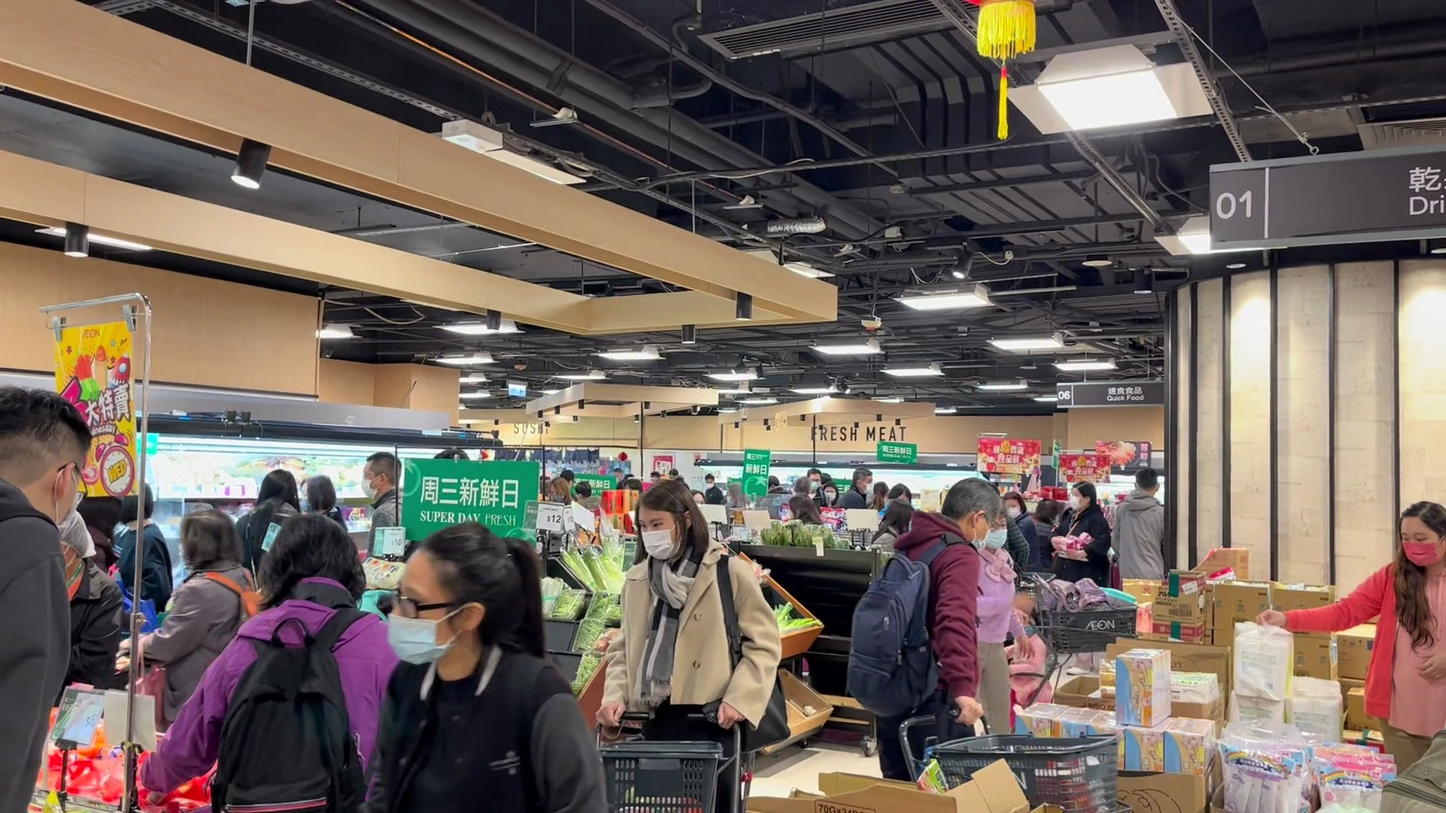dates_box: (225, 0, 1008, 536), (910, 0, 1446, 356), (1042, 0, 1446, 272), (334, 595, 624, 813), (881, 241, 1181, 436)
electronics: (772, 106, 1440, 813), (763, 147, 1249, 813), (1058, 335, 1445, 813), (1254, 9, 1446, 793), (1136, 407, 1445, 813), (1, 481, 319, 813), (472, 398, 713, 813)
perfume_bottle: (937, 0, 1057, 148)
wallet: (1194, 9, 1446, 275)
watch: (1, 123, 539, 813), (1, 0, 393, 813), (885, 0, 1395, 575), (832, 58, 1350, 622), (0, 164, 255, 813), (1039, 204, 1252, 333), (964, 578, 1076, 750)
